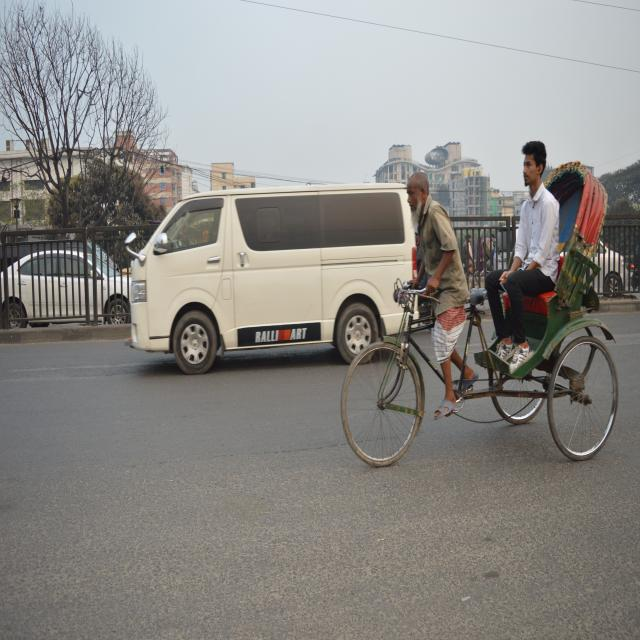car: (0, 230, 129, 348)
microbus: (124, 175, 416, 388)
